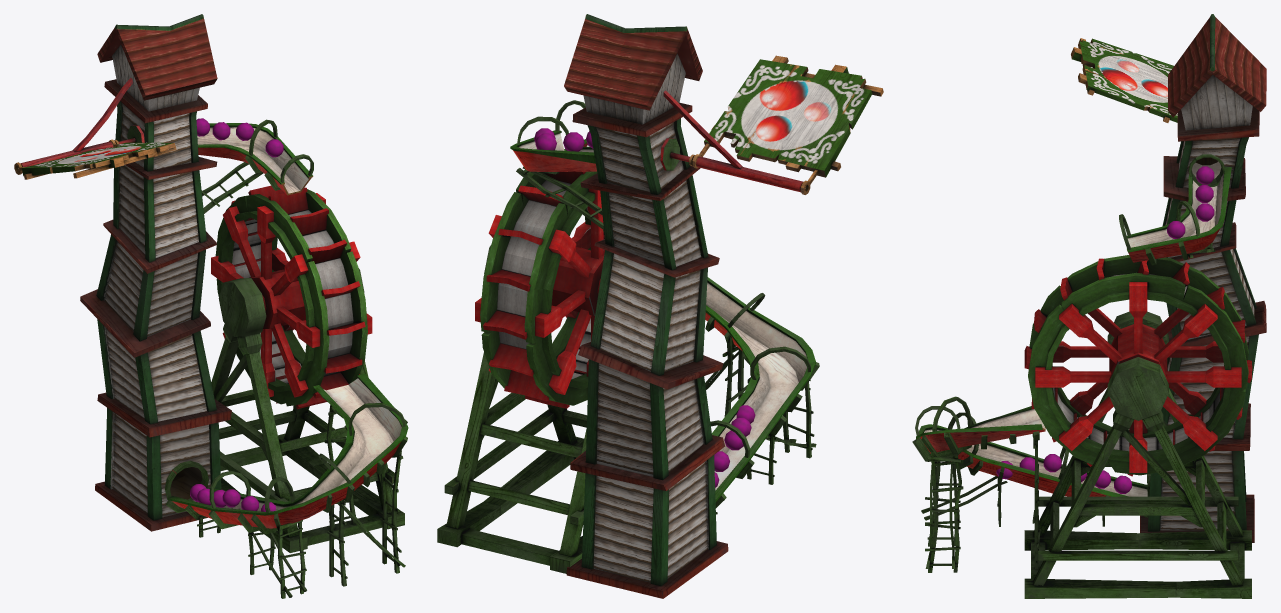
Rendered from WaterWheel.glb.
3 renders of one model, left to right at view 1: azimuth 30°, elevation 25°; view 2: azimuth 150°, elevation 25°; view 3: azimuth 270°, elevation 25°, orthographic. The views are drawn at different scales.
Parts seen in each view (by area): view 1: WaterWheel_Tower_01, WaterWheel_Structure_01, WaterWheel, Water_Wheel_Track_01, Sign; view 2: WaterWheel_Tower_01, WaterWheel_Structure_01, WaterWheel, Sign, Water_Wheel_Track_01; view 3: WaterWheel_Structure_01, WaterWheel, WaterWheel_Tower_01, Water_Wheel_Track_01, Sign.
Part boxes in pixels (x1,y1,x2,y2): WaterWheel_Tower_01: (80, 14, 231, 531); WaterWheel_Structure_01: (20, 78, 407, 598); WaterWheel: (211, 185, 372, 409); Water_Wheel_Track_01: (167, 123, 408, 528); Sign: (14, 139, 176, 179); WaterWheel_Tower_01: (564, 14, 728, 598); WaterWheel_Structure_01: (437, 90, 819, 573); WaterWheel: (475, 149, 604, 408); Sign: (689, 55, 883, 194); Water_Wheel_Track_01: (510, 130, 815, 501); WaterWheel_Structure_01: (912, 154, 1251, 598); WaterWheel: (1024, 255, 1252, 476); WaterWheel_Tower_01: (1140, 14, 1266, 542); Water_Wheel_Track_01: (916, 157, 1231, 496); Sign: (1071, 38, 1177, 122).
Size of what is drawn, in the model's own units: 0.3351 by 0.4985 by 0.3283.
Materials: 5 (5 with a texture image).
